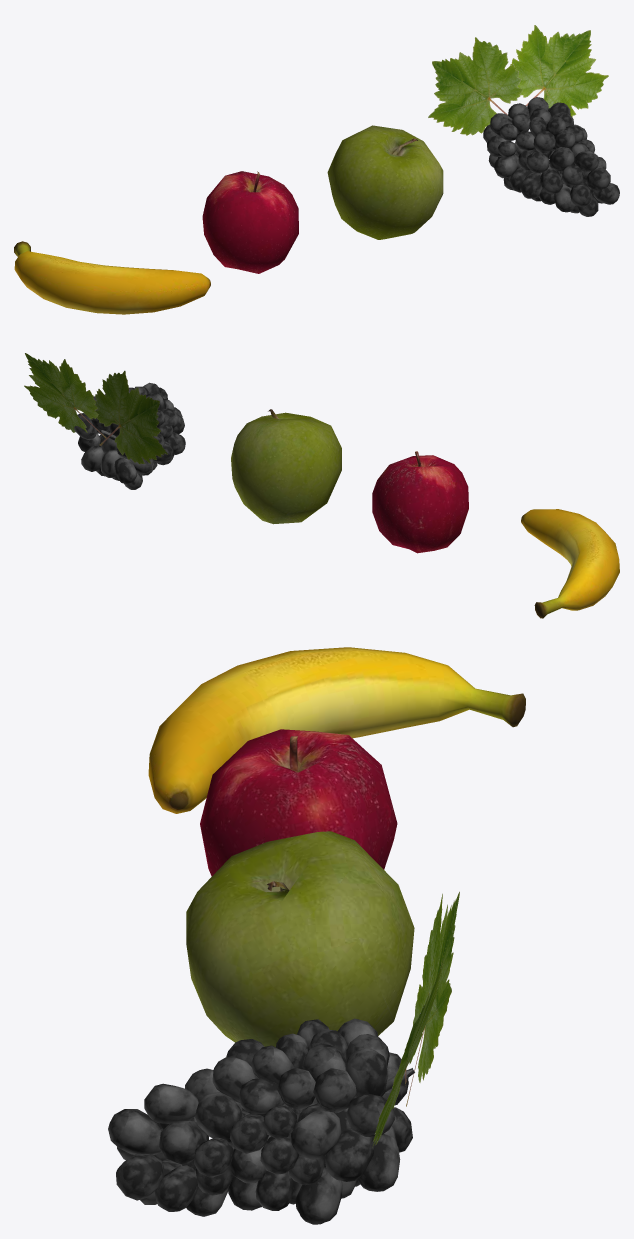
Rendered from Fruits.fbx.
3 views of the same model, one above another, from view 1: azimuth 30°, elevation 25°; view 2: azimuth 150°, elevation 25°; view 3: azimuth 270°, elevation 25° (orthographic). The views are drawn at different scales.
Parts seen in each view (by area): view 1: nurbsToPoly76_fruit_0, AppleGreen, Full_Banana_Yellow_M_Banana_Yellow_0, AppleRed; view 2: nurbsToPoly76_fruit_0, AppleGreen, AppleRed, Full_Banana_Yellow_M_Banana_Yellow_0; view 3: nurbsToPoly76_fruit_0, AppleGreen, Full_Banana_Yellow_M_Banana_Yellow_0, AppleRed.
Boxes of the visible parts, box(x1,y1,x2,y2) form: nurbsToPoly76_fruit_0: box(428, 25, 619, 216); AppleGreen: box(327, 125, 443, 239); Full_Banana_Yellow_M_Banana_Yellow_0: box(14, 241, 210, 314); AppleRed: box(202, 171, 298, 273); nurbsToPoly76_fruit_0: box(24, 353, 185, 489); AppleGreen: box(231, 409, 341, 524); AppleRed: box(372, 451, 468, 553); Full_Banana_Yellow_M_Banana_Yellow_0: box(521, 509, 619, 618); nurbsToPoly76_fruit_0: box(108, 891, 459, 1224); AppleGreen: box(186, 831, 414, 1047); Full_Banana_Yellow_M_Banana_Yellow_0: box(148, 647, 525, 813); AppleRed: box(200, 729, 397, 876).
Size of the model in its own units: 64.3 by 15.29 by 19.8.
2 materials, 2 textured.
